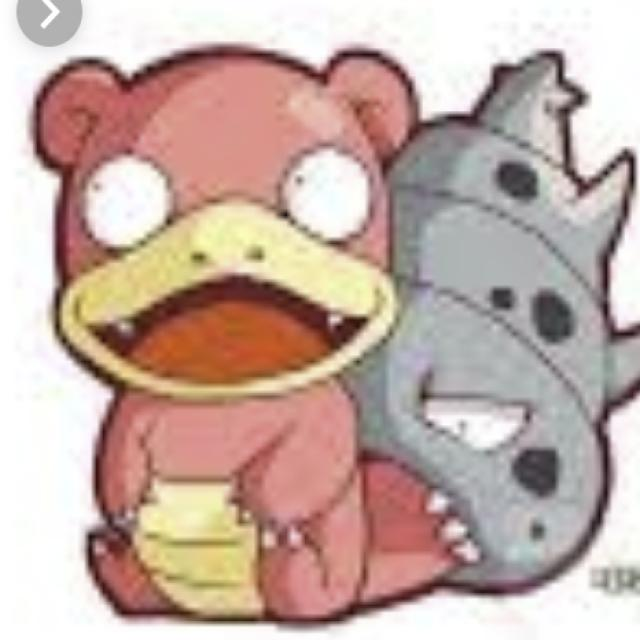Slowbro: (50, 55, 558, 608)
